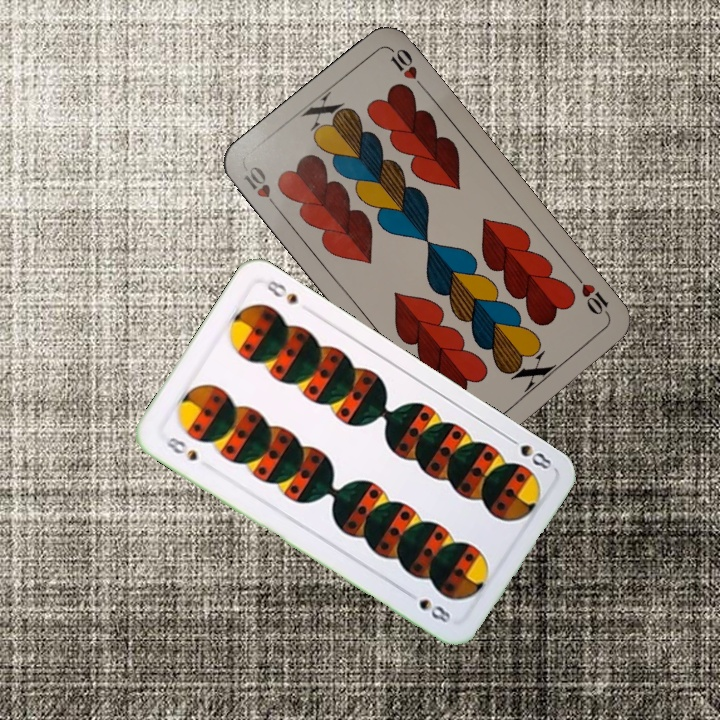H10: (239, 162, 283, 214), (570, 270, 613, 320)
S8: (503, 432, 557, 472), (161, 433, 200, 464)
